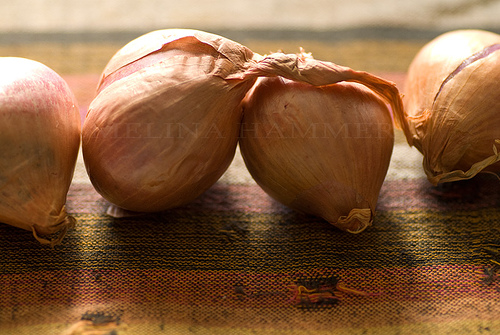onion: (81, 41, 253, 220), (239, 52, 395, 234), (399, 26, 499, 182), (0, 56, 80, 239)
